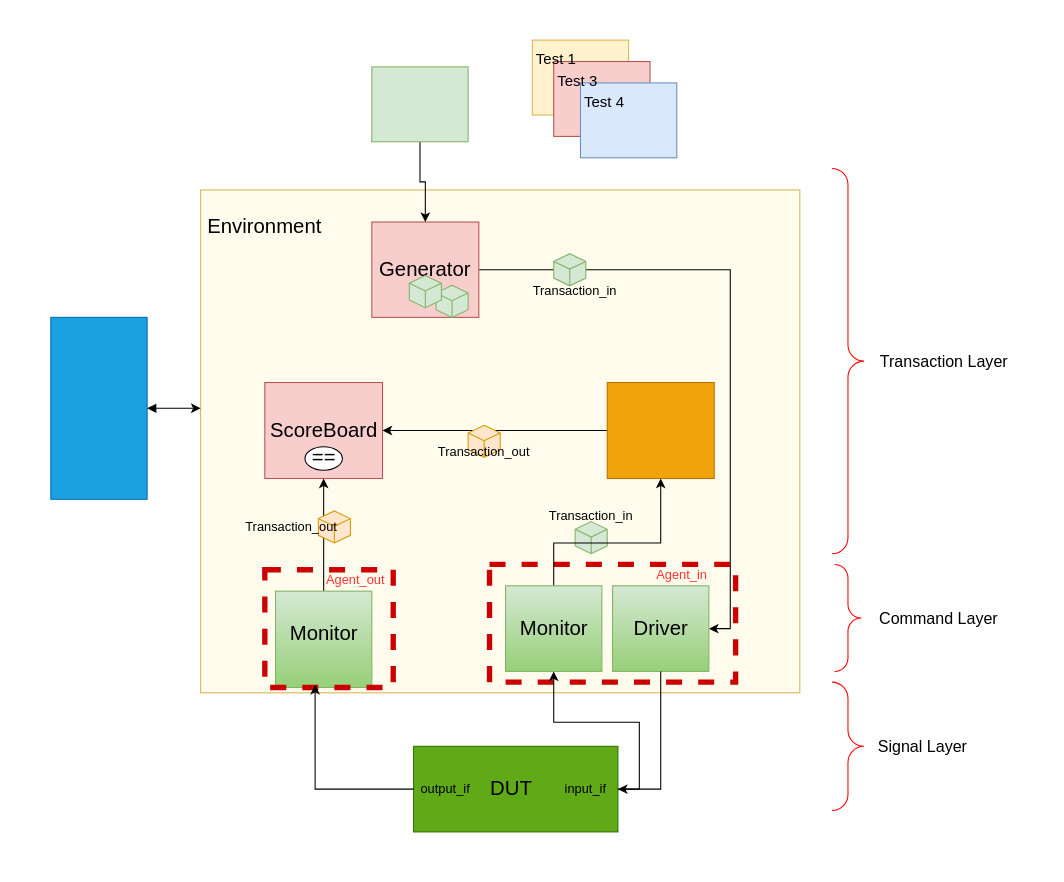
The diagram is 1064 pixels wide and 882 high, and some of its shapes have lost their labels. The box of each missing label's shape, as (x1, y1, x2, y2) in pixels:
Coverage: (50, 316, 147, 499)
Model: (606, 381, 714, 479)
Test 2: (371, 66, 468, 142)
